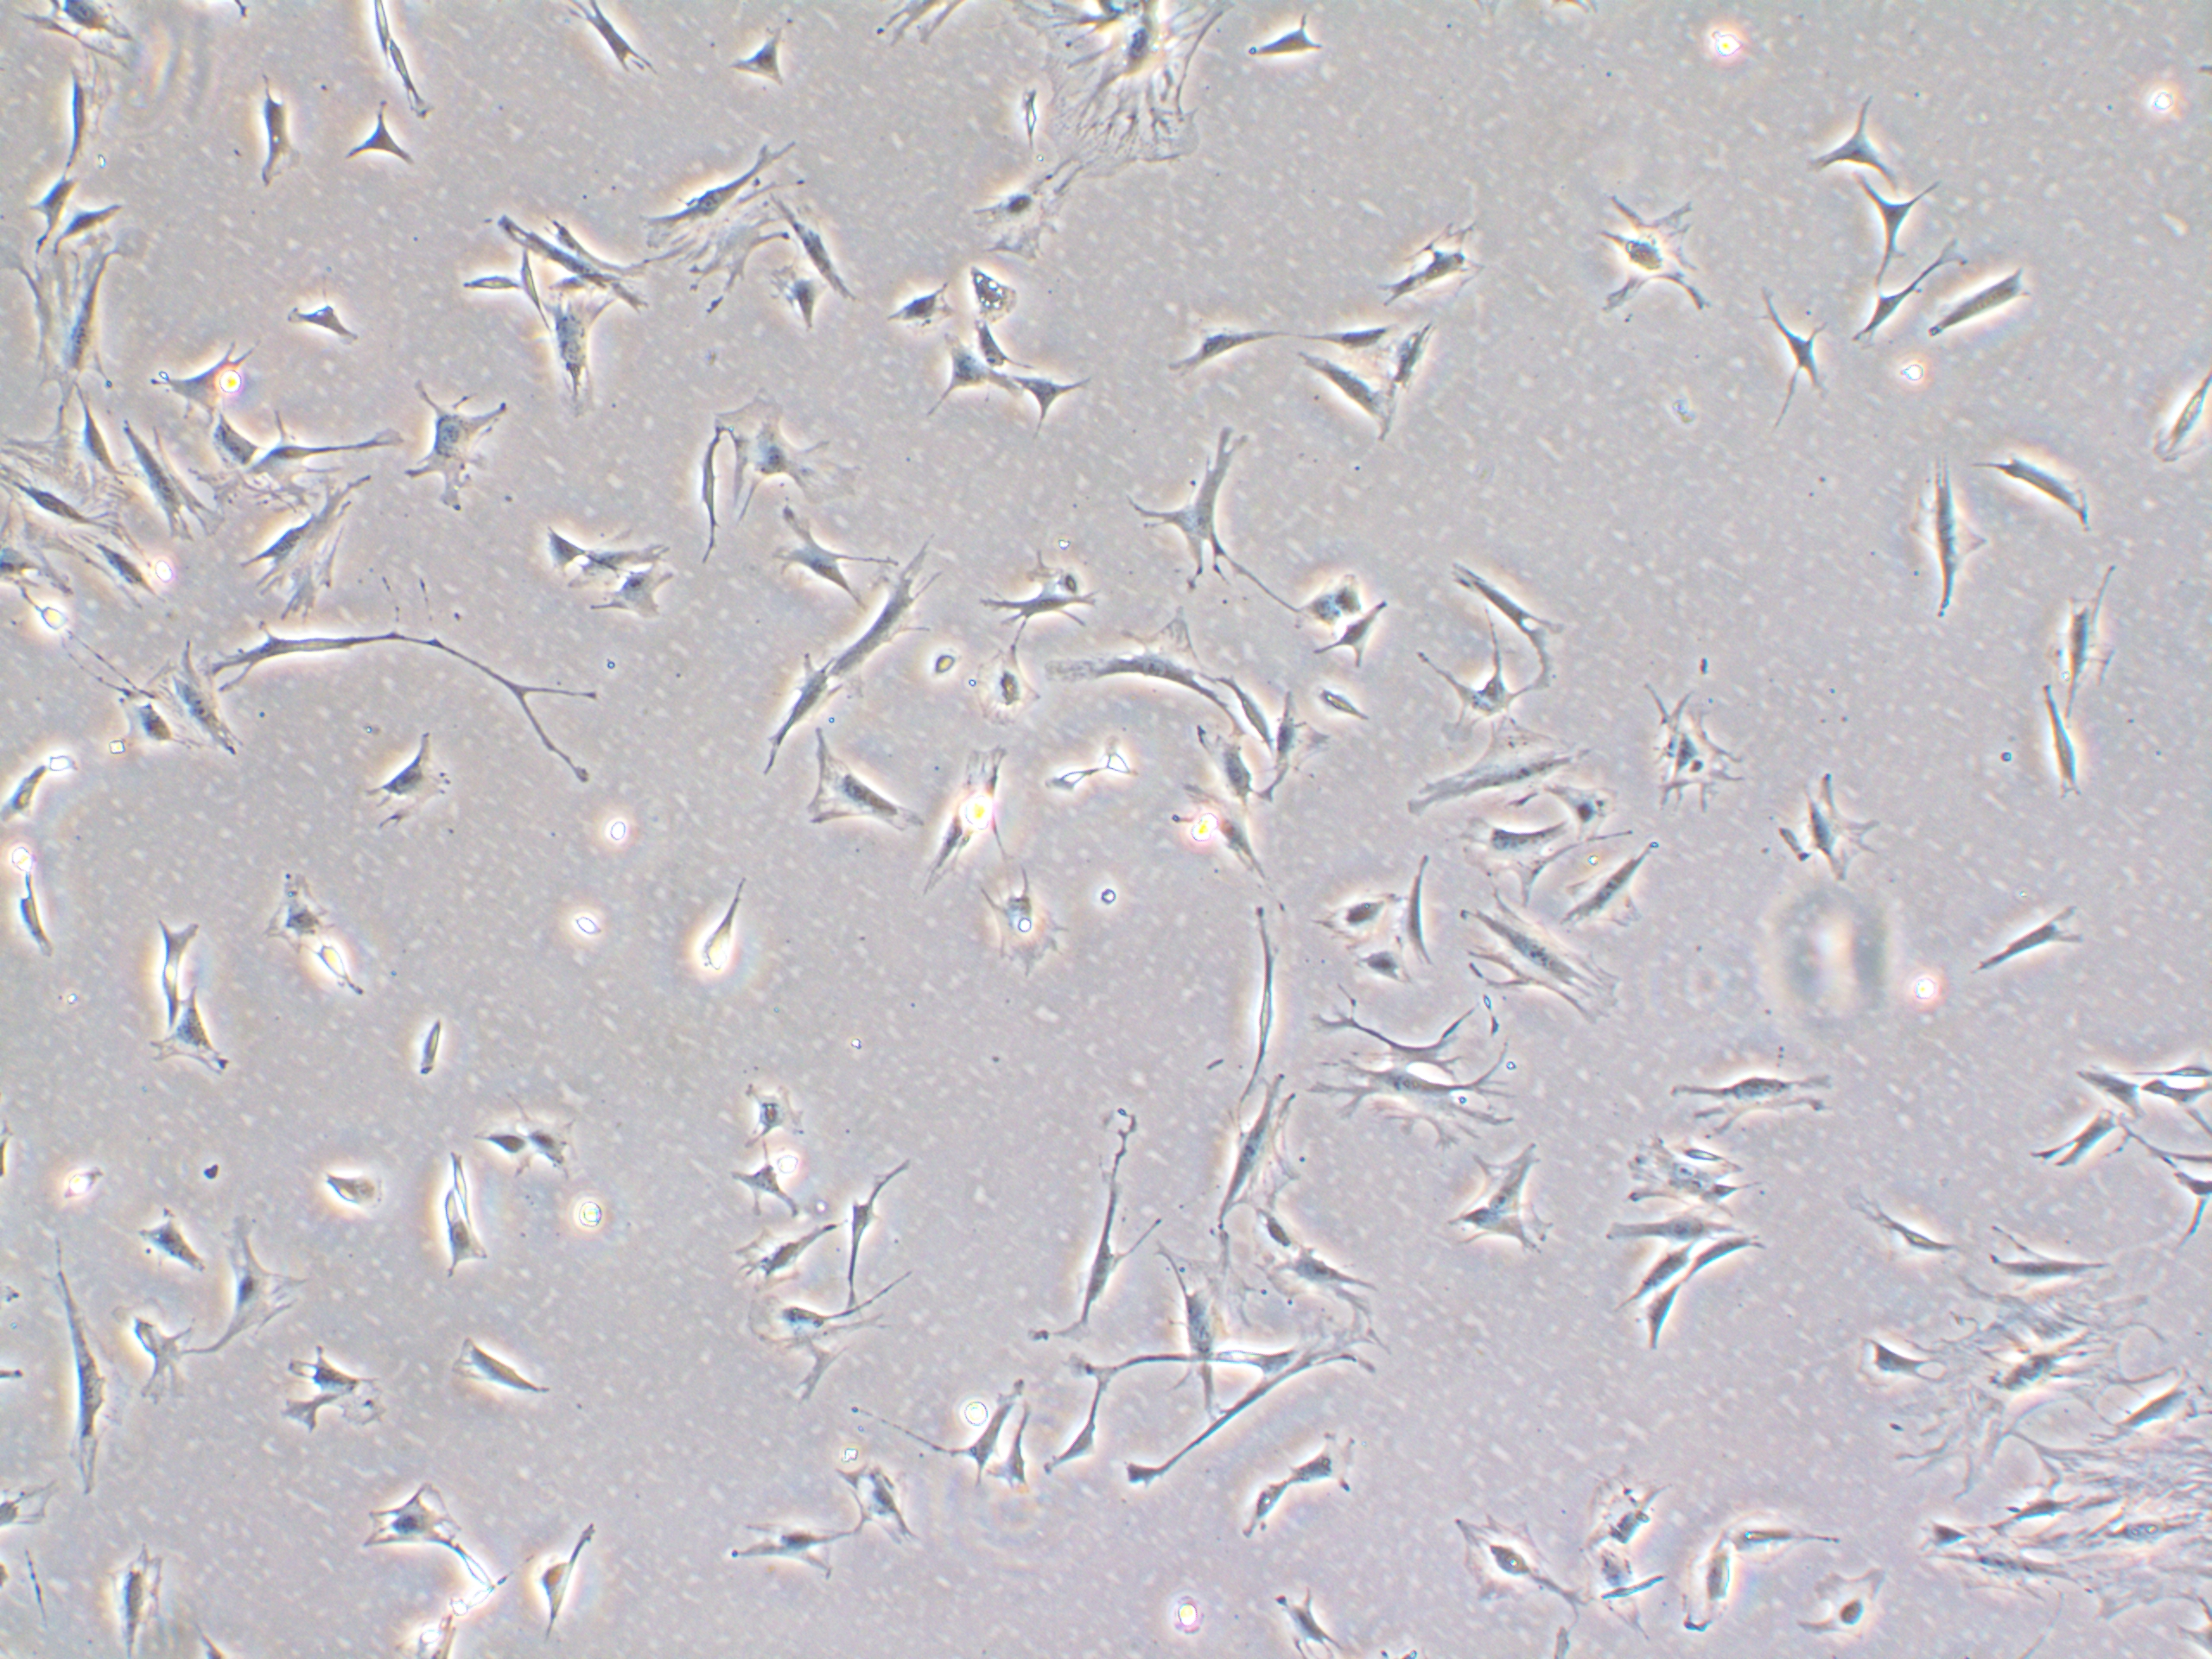Etc: (681, 856, 772, 992)
polygonal: (1116, 415, 1266, 598), (1035, 601, 1240, 728), (1052, 1126, 1148, 1361), (24, 1258, 115, 1506), (1874, 444, 1993, 633), (822, 528, 956, 692), (1393, 716, 1595, 823), (397, 359, 521, 525), (1439, 547, 1592, 678), (2010, 551, 2137, 708), (1367, 181, 1507, 324), (1959, 404, 2106, 533), (1433, 1143, 1564, 1284), (493, 204, 669, 308), (509, 1511, 643, 1645), (787, 725, 935, 843), (833, 1145, 941, 1302), (1148, 1229, 1242, 1406), (199, 1206, 301, 1368), (1663, 1049, 1838, 1143), (120, 415, 232, 561), (1825, 169, 1966, 284), (1958, 890, 2113, 993), (347, 709, 470, 836), (1548, 823, 1676, 946), (1789, 80, 1919, 200), (256, 1333, 395, 1445), (1761, 765, 1881, 894), (1846, 246, 1977, 364), (341, 1457, 491, 1556), (92, 1511, 186, 1659), (526, 277, 627, 411), (1754, 284, 1848, 425), (162, 640, 258, 775), (759, 497, 871, 613), (2022, 667, 2104, 826), (1916, 258, 2048, 355), (719, 1218, 867, 1305), (132, 906, 221, 1047), (1599, 1138, 1754, 1218), (1158, 786, 1277, 890), (1392, 833, 1465, 1002), (1162, 305, 1292, 397), (230, 63, 315, 204), (1275, 347, 1400, 443), (320, 78, 425, 185), (754, 645, 831, 788), (1698, 1495, 1831, 1577), (1224, 899, 1280, 1093), (561, 0, 678, 92), (139, 336, 256, 429), (1259, 676, 1339, 810), (772, 195, 860, 314), (1975, 1216, 2118, 1290), (721, 1513, 857, 1589), (1569, 1457, 1684, 1546), (961, 164, 1061, 265), (143, 992, 246, 1089), (118, 1309, 209, 1419), (263, 277, 397, 350), (831, 1453, 921, 1561), (434, 1333, 550, 1417), (519, 1093, 617, 1188), (124, 1197, 226, 1288), (1299, 866, 1411, 948), (85, 688, 199, 769), (253, 856, 340, 958), (1289, 300, 1407, 375), (1604, 1201, 1754, 1260), (944, 1377, 1019, 1495), (923, 321, 1017, 415), (1008, 371, 1116, 453), (1453, 810, 1576, 880), (49, 63, 131, 167), (1181, 713, 1268, 810), (2015, 1112, 2127, 1187), (1367, 310, 1458, 401), (862, 260, 960, 343), (564, 523, 676, 594), (1679, 1229, 1789, 1300), (2043, 1047, 2148, 1122), (725, 26, 827, 101), (9, 875, 75, 986), (1235, 10, 1355, 70), (1259, 1581, 1350, 1659), (300, 931, 381, 1016), (1320, 591, 1406, 673), (597, 568, 685, 648), (1832, 1324, 1928, 1396), (1341, 946, 1440, 1012), (1289, 1422, 1379, 1493), (1040, 1391, 1104, 1490), (719, 1147, 810, 1216), (1604, 1244, 1696, 1309), (467, 1107, 538, 1188), (685, 425, 725, 570), (765, 256, 829, 345), (989, 1401, 1040, 1514), (7, 167, 82, 237), (1554, 781, 1634, 845), (432, 1218, 498, 1290), (1226, 1474, 1292, 1544), (965, 308, 1029, 380), (960, 258, 1024, 326), (2132, 1072, 2212, 1124), (51, 195, 124, 251), (1635, 1279, 1679, 1363), (528, 509, 580, 570)
small-round: (986, 875, 1073, 995), (563, 782, 664, 861), (540, 884, 624, 971), (1090, 714, 1162, 793), (44, 1145, 124, 1215), (1158, 1565, 1219, 1640), (916, 636, 975, 701)
spread: (1872, 1274, 2170, 1525), (1939, 1413, 2212, 1636), (989, 0, 1226, 227), (1298, 999, 1529, 1155), (632, 134, 829, 310), (702, 382, 921, 523), (1437, 878, 1629, 1033), (0, 429, 145, 612), (1592, 181, 1721, 345), (1209, 1066, 1312, 1265), (19, 230, 125, 410), (263, 451, 368, 627)
